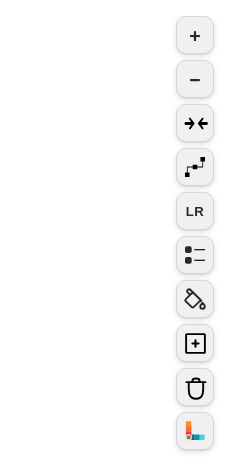
Test: ERD control help › lets users move onto the help, then closes it when they leave
The image size is (232, 470).
Hover over the button with id "zoom-in".
mouse_move(195, 35)  # box [176,16,214,54]
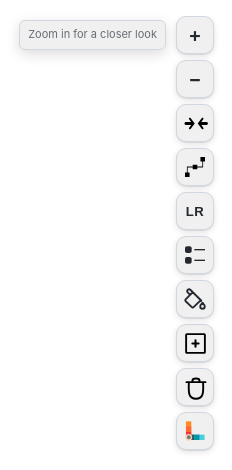
Hover over the tooltip "Zoom in for a closer look".
mouse_move(93, 35)  # box [19,20,166,50]
Expected: the tooltip "Zoom in for a closer look" is shown
Move the pointer off the tooltip "Zoom in for a closer look", box [19,20,166,50]
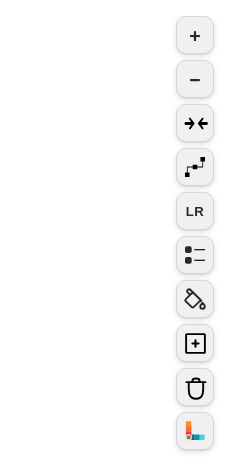
Expected: the tooltip "Zoom in for a closer look" is gone
